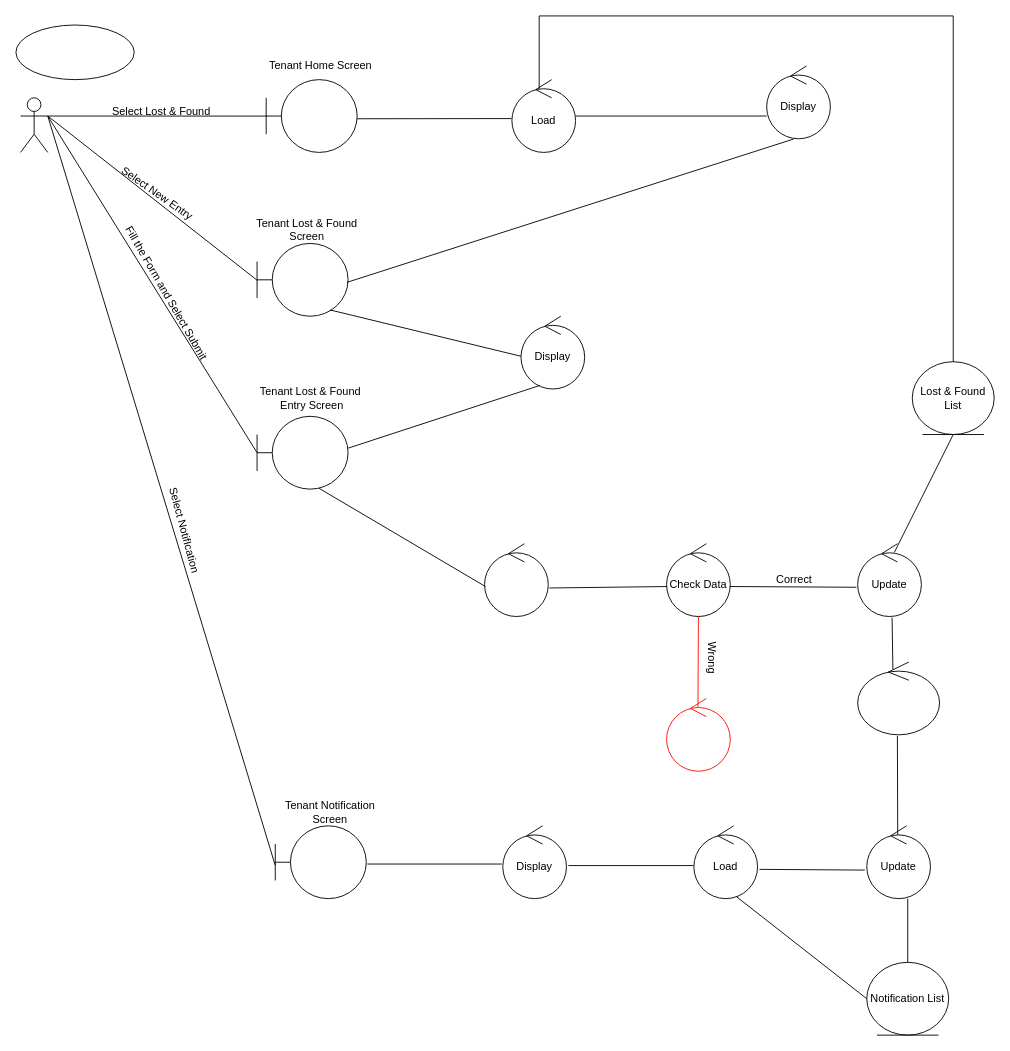
Some shapes in this 1010 by 1051 pixel diagram are drawn without their labels. The box of each missing label's shape, as (x1, y1, x2, y2) in pixels:
Create Announcment: (857, 661, 940, 735)
Error Message: (666, 698, 730, 771)
Lost & Found: (15, 24, 134, 80)
Submit: (484, 543, 548, 617)
Tenant: (20, 97, 48, 152)
